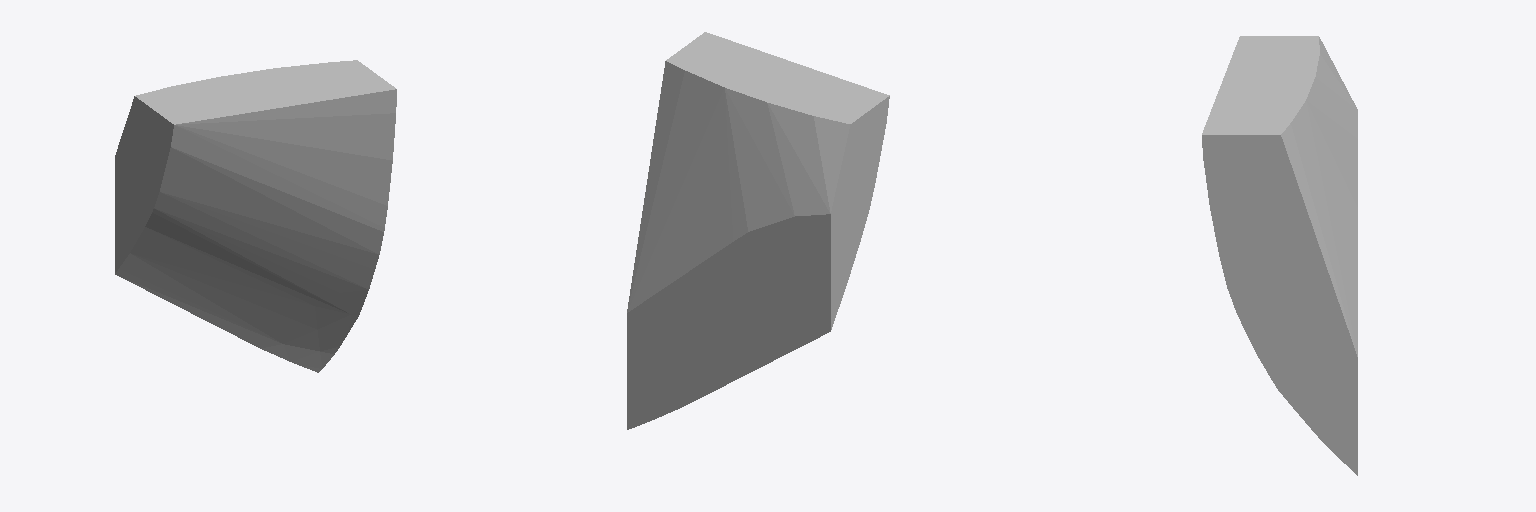
Rendered from phantom-elastrat_collision_112.obj.
The picture shows the model from 3 angles: view 1: azimuth 30°, elevation 25°; view 2: azimuth 150°, elevation 25°; view 3: azimuth 270°, elevation 25°; orthographic projection.
Size of the model in its own units: 0.005 by 0.008 by 0.0033.